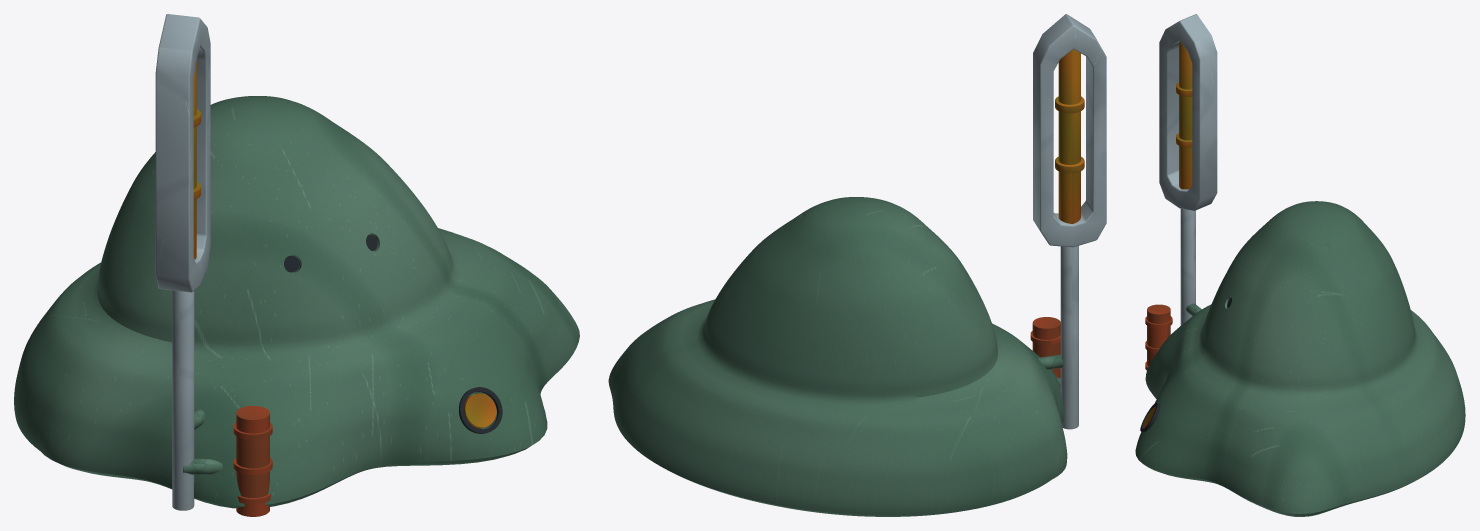
The picture shows the model from 3 angles, left to right: view 1: azimuth 30°, elevation 25°; view 2: azimuth 150°, elevation 25°; view 3: azimuth 270°, elevation 25°; orthographic projection. The views are drawn at different scales.
Parts seen in each view (by area): view 1: Rare Ore Extractor continuous scalloped shell and raised hoo, Rare Ore Extractor open pale capsule frame, Rare Ore Extractor straight pale stem, Rare Ore Extractor short red copper banded upright, Rare Ore Extractor lower brass fitting, Rare Ore Extractor lower dark annular rim, Rare Ore Extractor continuous brass core; view 2: Rare Ore Extractor continuous scalloped shell and raised hoo, Rare Ore Extractor open pale capsule frame, Rare Ore Extractor continuous brass core, Rare Ore Extractor straight pale stem, Rare Ore Extractor short red copper banded upright; view 3: Rare Ore Extractor continuous scalloped shell and raised hoo, Rare Ore Extractor open pale capsule frame, Rare Ore Extractor continuous brass core, Rare Ore Extractor straight pale stem, Rare Ore Extractor short red copper banded upright.
Part boxes in pixels (bbox=[...]): Rare Ore Extractor continuous scalloped shell and raised hoo: bbox=[14, 96, 579, 508]; Rare Ore Extractor open pale capsule frame: bbox=[155, 14, 210, 292]; Rare Ore Extractor straight pale stem: bbox=[172, 290, 194, 510]; Rare Ore Extractor short red copper banded upright: bbox=[233, 406, 272, 516]; Rare Ore Extractor lower brass fitting: bbox=[464, 393, 496, 428]; Rare Ore Extractor lower dark annular rim: bbox=[459, 387, 502, 433]; Rare Ore Extractor continuous brass core: bbox=[193, 61, 196, 259]; Rare Ore Extractor continuous scalloped shell and raised hoo: bbox=[608, 197, 1067, 516]; Rare Ore Extractor open pale capsule frame: bbox=[1033, 14, 1106, 247]; Rare Ore Extractor continuous brass core: bbox=[1058, 49, 1080, 223]; Rare Ore Extractor straight pale stem: bbox=[1060, 246, 1078, 429]; Rare Ore Extractor short red copper banded upright: bbox=[1030, 317, 1060, 378]; Rare Ore Extractor continuous scalloped shell and raised hoo: bbox=[1135, 201, 1465, 516]; Rare Ore Extractor open pale capsule frame: bbox=[1159, 14, 1217, 210]; Rare Ore Extractor continuous brass core: bbox=[1179, 41, 1192, 189]; Rare Ore Extractor straight pale stem: bbox=[1180, 209, 1195, 325]; Rare Ore Extractor short red copper banded upright: bbox=[1145, 304, 1172, 370].
Bounding box in the file's own units: 2.07 × 1.82 × 1.59.
Materials: 5 (4 with a texture image).
